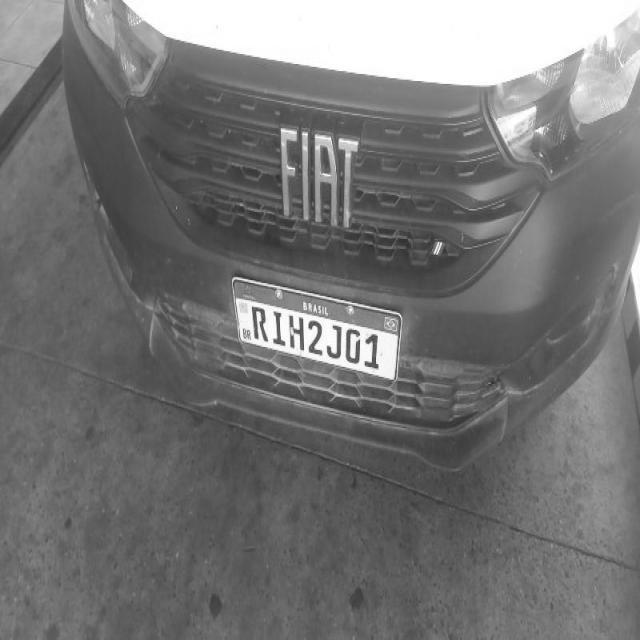placa_mercosul: (233, 278, 401, 379)
